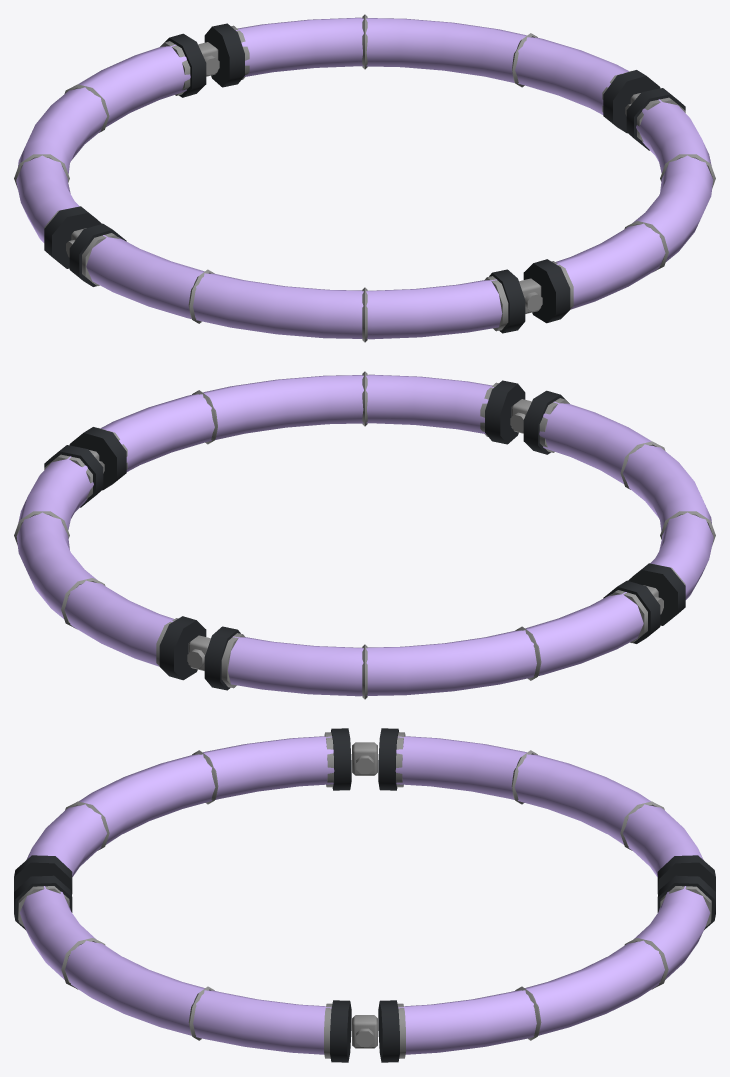
Rendered from Vault_ResonatorRing.fbx.
3 renders of one model, top to bottom at view 1: azimuth 30°, elevation 25°; view 2: azimuth 150°, elevation 25°; view 3: azimuth 270°, elevation 25°, orthographic.
Visible parts, largest first — view 1: Vault_ResonatorRing_LOD0; view 2: Vault_ResonatorRing_LOD0; view 3: Vault_ResonatorRing_LOD0.
Boxes of the visible parts, box(x1,y1,x2,y2) form: Vault_ResonatorRing_LOD0: box(14, 14, 715, 342); Vault_ResonatorRing_LOD0: box(14, 371, 715, 699); Vault_ResonatorRing_LOD0: box(14, 728, 715, 1062).
Size of what is drawn, in the model's own units: 1.63 by 0.133 by 1.63.
